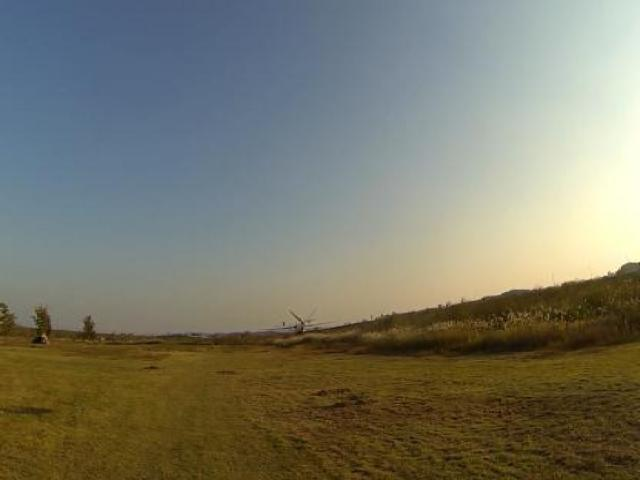uav: (262, 309, 342, 339)
